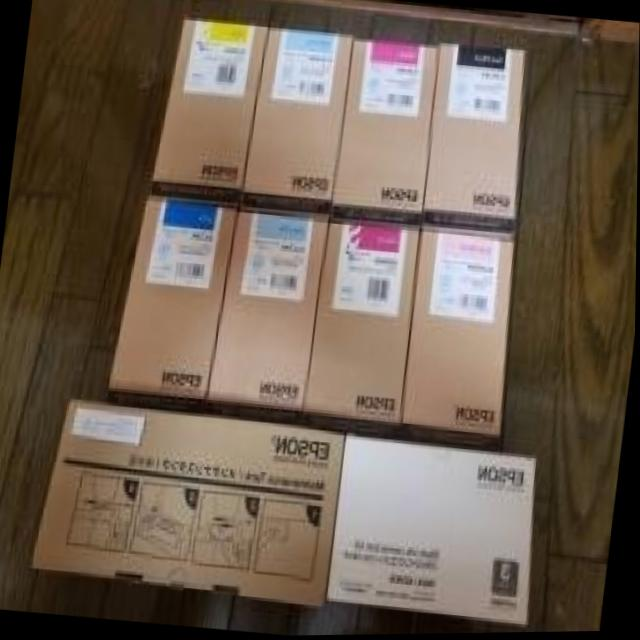box: (31, 396, 345, 610), (328, 436, 537, 626), (109, 195, 238, 400), (207, 207, 329, 415), (304, 218, 422, 424), (404, 227, 513, 436), (151, 20, 268, 201), (243, 28, 352, 212), (334, 39, 438, 221), (425, 44, 526, 230)
